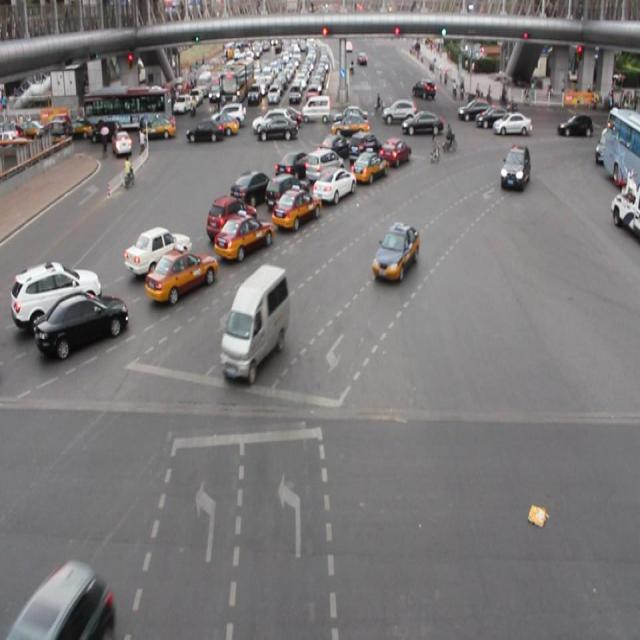car: (13, 557, 112, 640), (36, 291, 127, 357), (10, 262, 101, 326), (145, 247, 216, 302), (124, 224, 190, 274), (214, 211, 272, 260), (373, 222, 418, 280), (207, 194, 256, 240), (272, 185, 320, 231), (312, 167, 355, 208), (266, 172, 308, 210), (500, 144, 530, 190), (231, 171, 270, 205), (274, 150, 310, 185), (346, 130, 381, 165), (351, 150, 386, 182), (318, 132, 350, 163), (380, 138, 410, 170)
truck: (221, 266, 286, 381), (304, 146, 343, 183)
